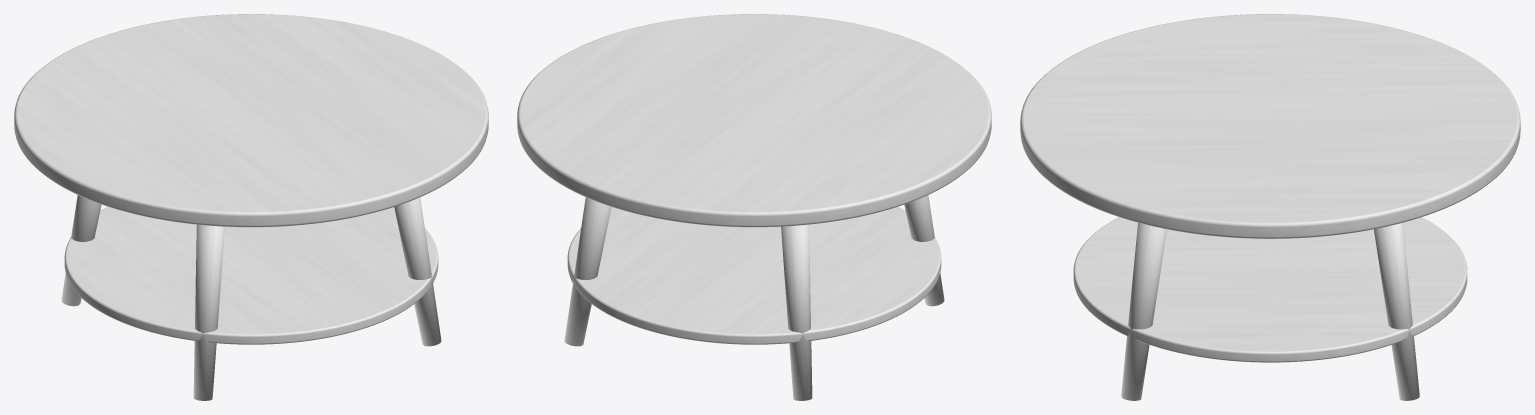
Rendered from coffee-table-round-oak.glb.
3 renders of one model, left to right at view 1: azimuth 30°, elevation 25°; view 2: azimuth 150°, elevation 25°; view 3: azimuth 270°, elevation 25°, orthographic. The views are drawn at different scales.
Visible parts, largest first — view 1: Round solid-wood top, Round lower shelf, Tapered splayed table leg.002, Tapered splayed table leg.003, Tapered splayed table leg.001; view 2: Round solid-wood top, Round lower shelf, Tapered splayed table leg.001, Tapered splayed table leg, Tapered splayed table leg.002; view 3: Round solid-wood top, Round lower shelf, Tapered splayed table leg, Tapered splayed table leg.003.
Part boxes in pixels (box(x1,y1,x2,y2)): Round solid-wood top: box(14, 14, 488, 227); Round lower shelf: box(64, 207, 438, 344); Tapered splayed table leg.002: box(193, 224, 224, 400); Tapered splayed table leg.003: box(394, 197, 441, 346); Tapered splayed table leg.001: box(61, 195, 101, 306); Round solid-wood top: box(517, 14, 991, 227); Round lower shelf: box(567, 207, 941, 344); Tapered splayed table leg.001: box(781, 224, 812, 400); Tapered splayed table leg: box(564, 197, 611, 346); Tapered splayed table leg.002: box(904, 195, 944, 306); Round solid-wood top: box(1020, 14, 1520, 238); Round lower shelf: box(1073, 217, 1467, 362); Tapered splayed table leg: box(1374, 222, 1419, 400); Tapered splayed table leg.003: box(1121, 222, 1166, 400).
Size of the model in its own units: 0.914 by 0.4472 by 0.914.
Materials: 1 (1 with a texture image).
